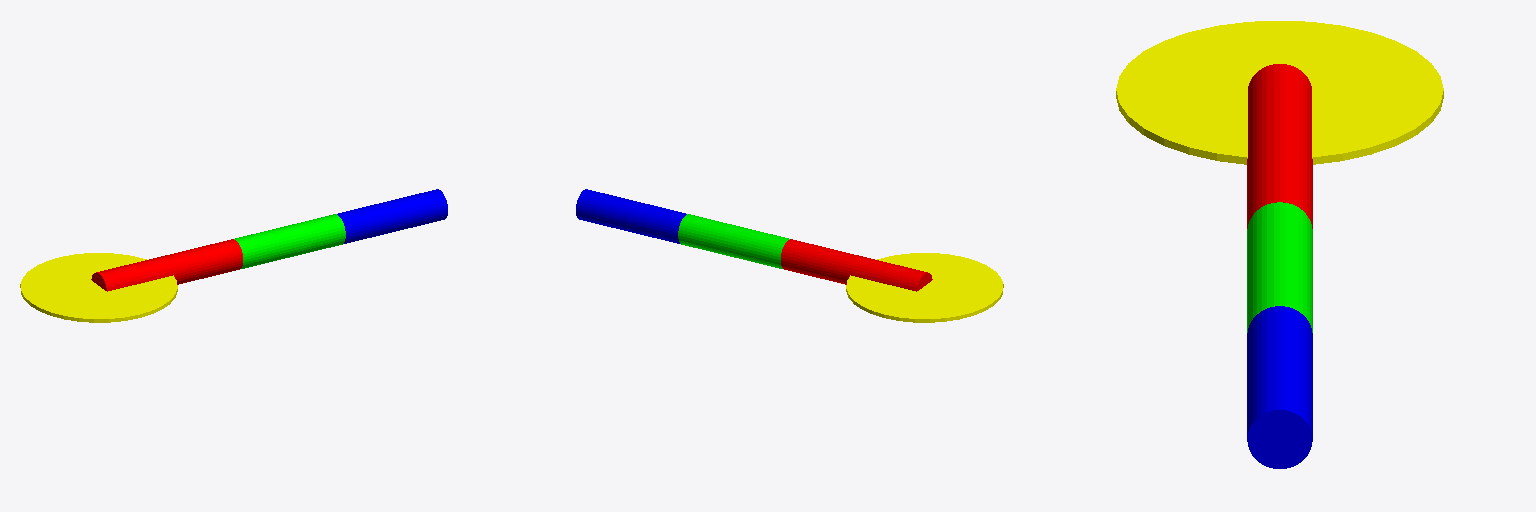
robot.urdf — simple_robot:
<robot name="simple_robot"> <!-- robot name- you decide -->
<!-- sequence : link-joint-link-joint-...-link... -->
<!-- units: meters for distance,rad in case of angles -->
<!-- first link called base_link -->
<link name= "base_link">
	<visual>
		<geometry>
			<cylinder length="0.01" radius="0.2"/>
		</geometry>
		<origin rpy="0 0 0" xyz="0 0 0"/> <!-- rpy: roll pitch yaw -> orientation xyz -> position --> 
		<material name= "base_color">
			<color rgba="1 1 0 1"/> 
		</material>
	</visual>

</link>
<!-- first joint-->
<joint name="joint1" type= "revolute"> <!-- types: revolute and prismatic -->
	<parent link="base_link"/>
	<child link="link1"/>
	<origin xyz ="0 0 0"/>
	<axis xyz="0 0 1"/>
	<limit effort="300" velocity="0.1" lower="-3.14159" upper="3.14159"/>
	<dynamics damping="50" friction="1"/>

</joint>
<!-- link1-->
<link name= "link1">
	<visual>
		<geometry>
			<cylinder length="0.4" radius="0.04"/>
		</geometry>
		<origin rpy="0 1.5707 0" xyz="0.2 0 0"/> <!-- rpy: roll pitch yaw -> orientation xyz -> position --> 
		<material name= "link1_color">
			<color rgba="1 0 0 1"/> 
		</material>
	</visual>
</link>

<!-- second joint-->
<joint name="joint2" type= "revolute"> <!-- types: revolute and prismatic -->
	<parent link="link1"/>
	<child link="link2"/>
	<origin xyz ="0.4 0 0"/>
	<axis xyz="0 -1 0"/>
	<limit effort="300" velocity="0.1" lower="-3.14159" upper="3.14159"/>
	<dynamics damping="50" friction="1"/>

</joint>
<!-- link2-->
<link name= "link2">
	<visual>
		<geometry>
			<cylinder length="0.3" radius="0.04"/>
		</geometry>
		<origin rpy="0 1.5707 0" xyz="0.15 0 0"/> <!-- rpy: roll pitch yaw -> orientation xyz -> position --> 
		<material name= "link2_color">
			<color rgba="0 1 0 1"/> 
		</material>
	</visual>
</link>

<!-- third joint-->
<joint name="joint3" type= "revolute"> <!-- types: revolute and prismatic -->
	<parent link="link2"/>
	<child link="link3"/>
	<origin xyz ="0.3 0 0"/>
	<axis xyz="0 -1 0"/>
	<limit effort="300" velocity="0.1" lower="-3.14159" upper="3.14159"/>
	<dynamics damping="50" friction="1"/>

</joint>

<!-- link3-->
<link name= "link3">
	<visual>
		<geometry>
			<cylinder length="0.3" radius="0.04"/>
		</geometry>
		<origin rpy="0 1.5707 0" xyz="0.15 0 0"/> <!-- rpy: roll pitch yaw -> orientation xyz -> position --> 
		<material name= "link3_color">
			<color rgba="0 0 1 1"/> 
		</material>
	</visual>
</link>

<!-- fourth joint-->
<joint name="joint4" type= "fixed"> <!-- types: revolute and prismatic -->
	<parent link="link3"/>
	<child link="link4"/>
	<origin xyz ="0.3 0 0"/>
	<axis xyz="0 -1 0"/>
	<limit effort="300" velocity="0.1" lower="-3.14159" upper="3.14159"/>
	<dynamics damping="50" friction="1"/>

</joint>

<!-- link4-->
<link name= "link4">
	<visual>
		<geometry>
			<cylinder length="0.0" radius="0.0"/>
		</geometry>
		<origin rpy="0 1.5707 0" xyz="0.15 0 0"/> <!-- rpy: roll pitch yaw -> orientation xyz -> position --> 
		<material name= "link3_color">
			<color rgba="0 0 1 1"/> 
		</material>
	</visual>
</link>

</robot>

--- Render facts (derived) ---
The picture shows the robot from 3 angles, left to right: view 1: azimuth 30°, elevation 25°; view 2: azimuth 150°, elevation 25°; view 3: azimuth 270°, elevation 25°; orthographic projection.
Model simple_robot with 5 links and 4 joints (3 revolute, 1 fixed), rooted at base_link, posed all joints at 0.
Links seen in each view (by area): view 1: base_link, link1, link2, link3; view 2: base_link, link1, link2, link3; view 3: base_link, link3, link1, link2.
Link boxes in pixels (x1,y1,x2,y2): base_link: [20, 253, 177, 322]; link1: [91, 239, 242, 291]; link2: [234, 214, 345, 268]; link3: [337, 189, 447, 243]; base_link: [846, 253, 1003, 322]; link1: [781, 239, 932, 291]; link2: [678, 214, 789, 268]; link3: [576, 189, 686, 243]; base_link: [1116, 21, 1443, 164]; link3: [1247, 306, 1312, 468]; link1: [1247, 64, 1312, 228]; link2: [1247, 202, 1312, 332].
Bounding box of the posed robot: 1.35 × 0.4 × 0.08 m (x, y, z).
Geometry: primitives only (box / cylinder / sphere), no mesh files.